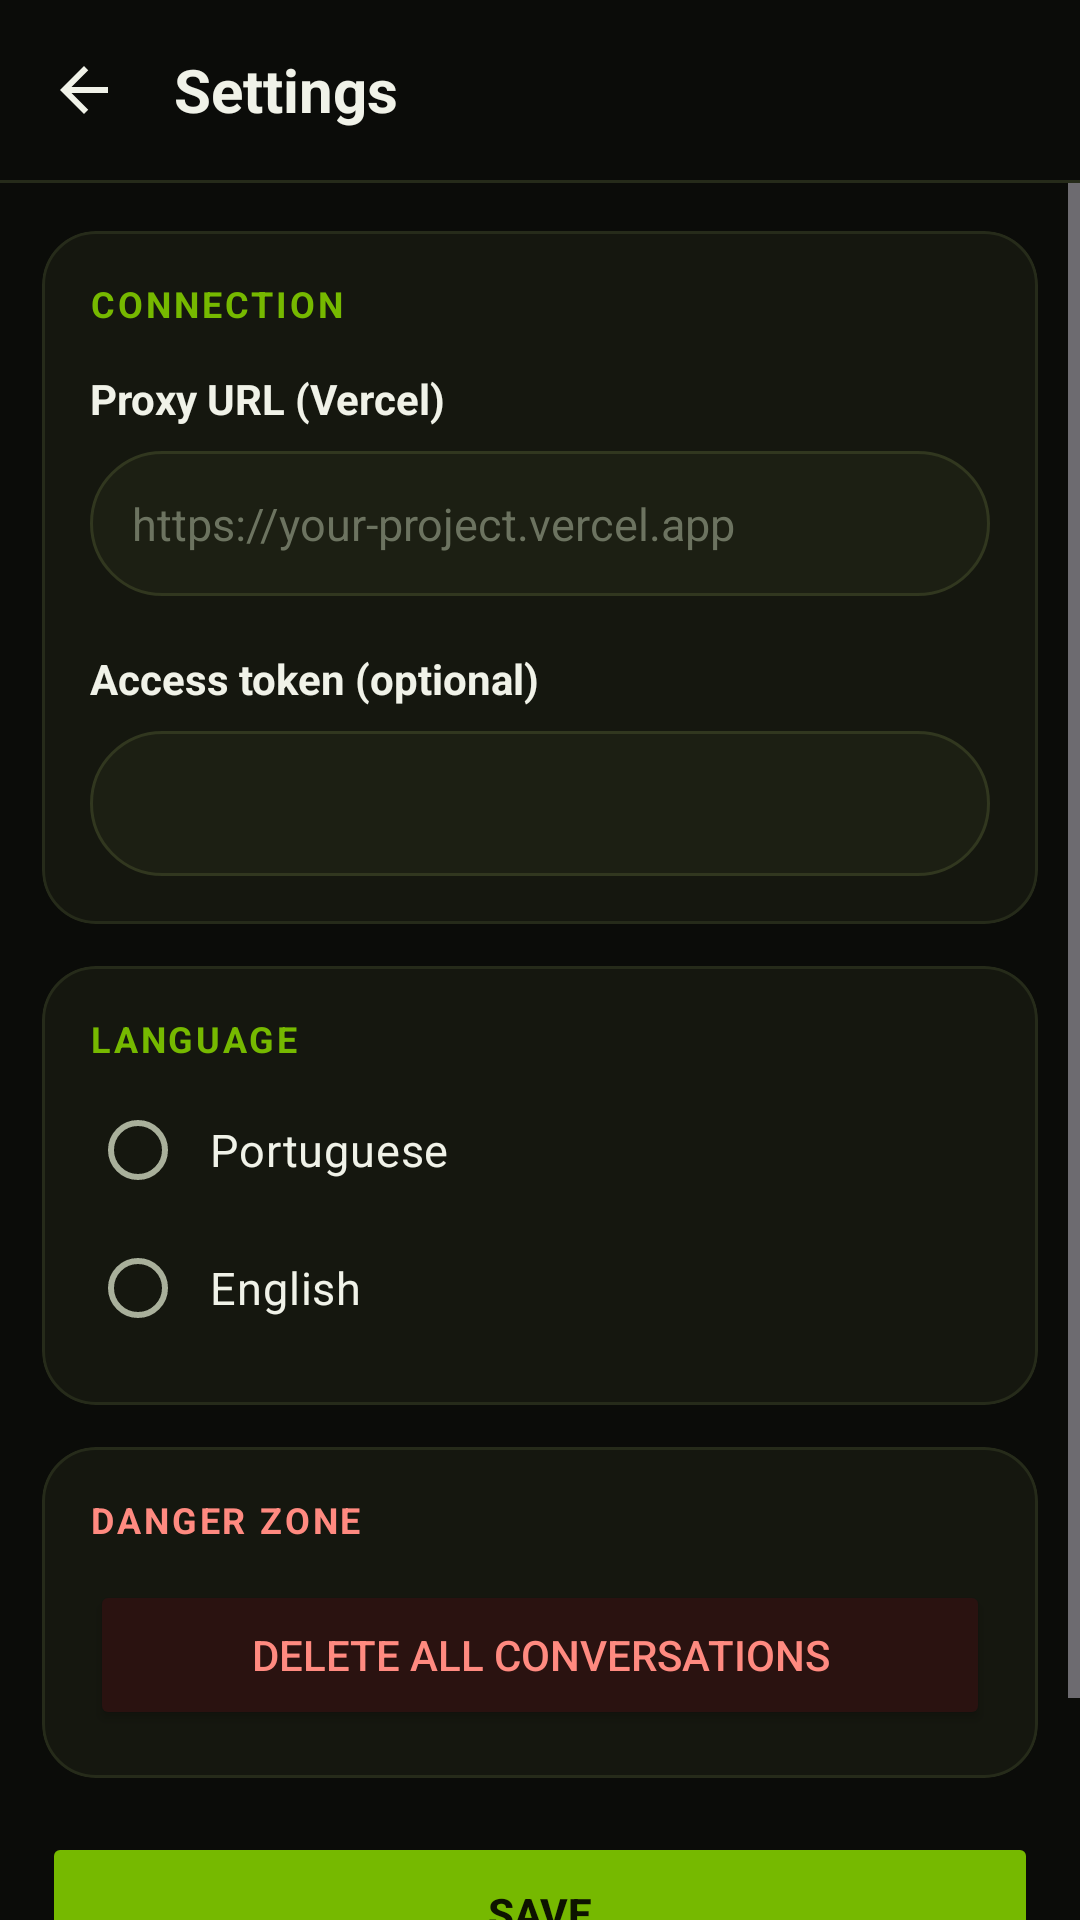

Screen size 1080 × 1920. Icon name, then its box in pixels as (x1, y1, x2, y2):
back: (60, 66, 108, 114)
